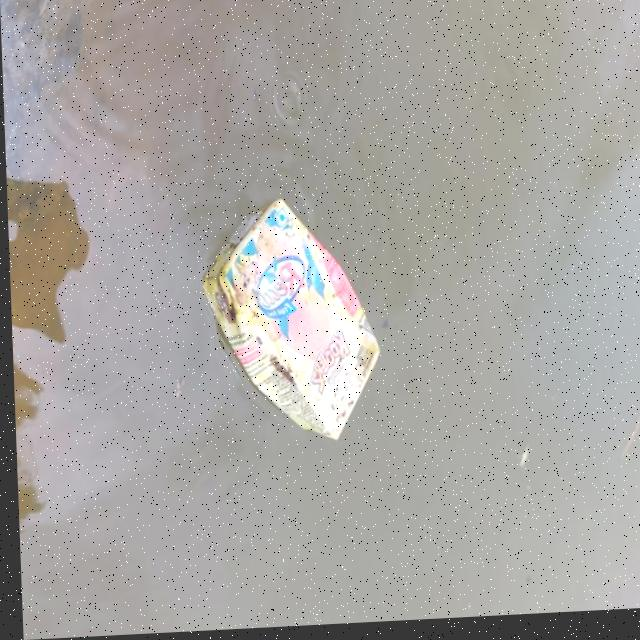paper: (186, 189, 402, 458)
